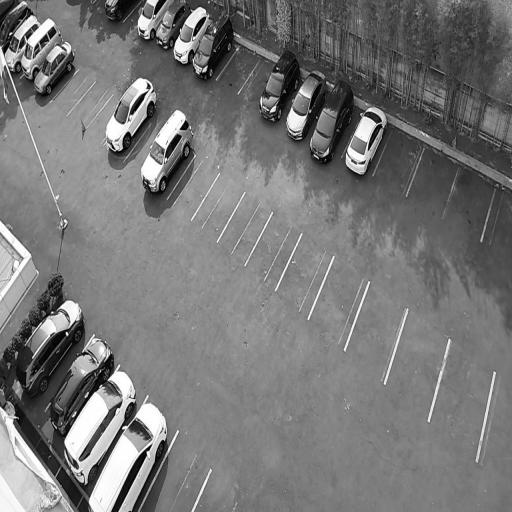Car: (57, 364, 143, 496), (86, 392, 174, 512), (9, 295, 94, 409), (41, 327, 121, 440), (133, 103, 200, 200), (99, 67, 163, 156), (303, 76, 360, 169), (253, 42, 305, 127), (281, 65, 332, 146), (340, 99, 391, 179), (188, 11, 238, 84), (32, 35, 79, 99), (20, 15, 63, 81), (168, 3, 212, 67), (4, 12, 42, 73), (155, 0, 193, 52), (0, 0, 33, 55), (133, 0, 175, 43), (103, 0, 136, 23)
Space Available: (429, 339, 495, 459), (385, 309, 449, 420), (345, 282, 408, 384), (139, 429, 211, 511), (308, 257, 369, 351), (275, 233, 333, 318), (246, 212, 301, 290), (216, 191, 272, 265), (442, 166, 496, 241), (191, 173, 245, 242), (477, 373, 512, 478), (407, 147, 459, 217), (167, 153, 220, 220), (373, 130, 424, 196), (66, 81, 113, 128), (50, 68, 95, 117), (216, 46, 260, 94), (482, 187, 512, 253), (124, 122, 159, 170), (239, 60, 273, 103), (86, 94, 119, 137), (123, 0, 147, 28)
